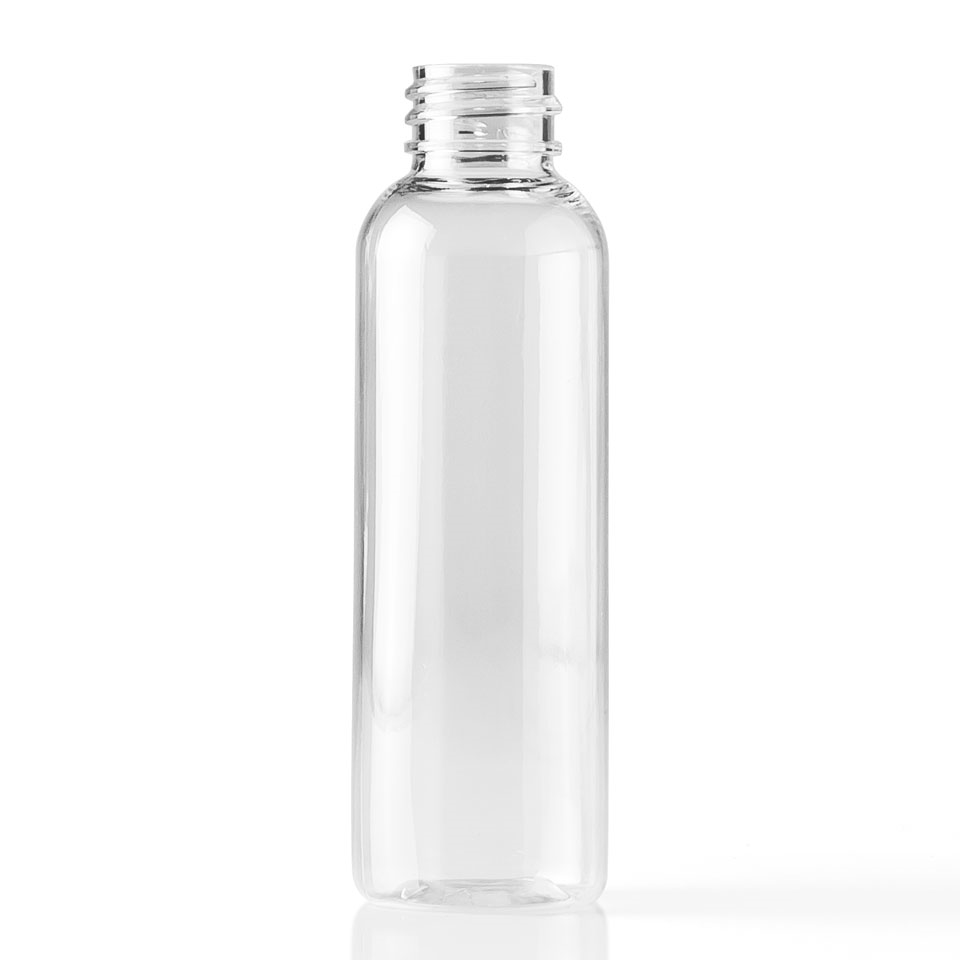emptybottle: (355, 66, 611, 910)
